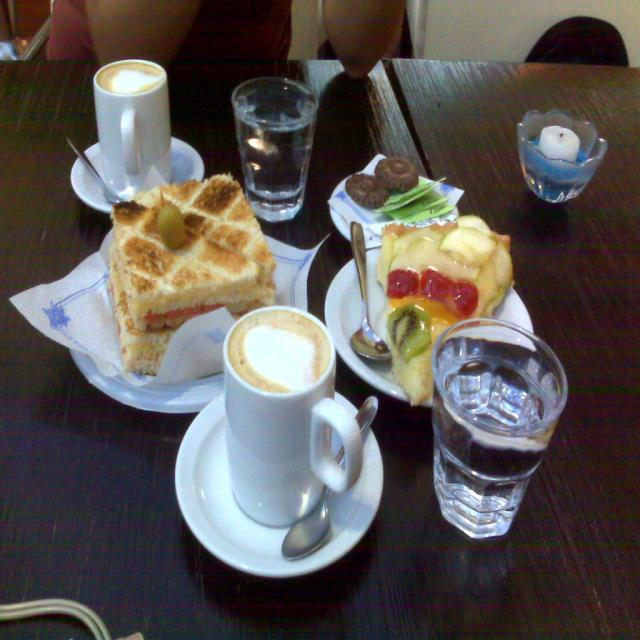Coffee: (227, 305, 335, 397), (94, 58, 167, 98)
